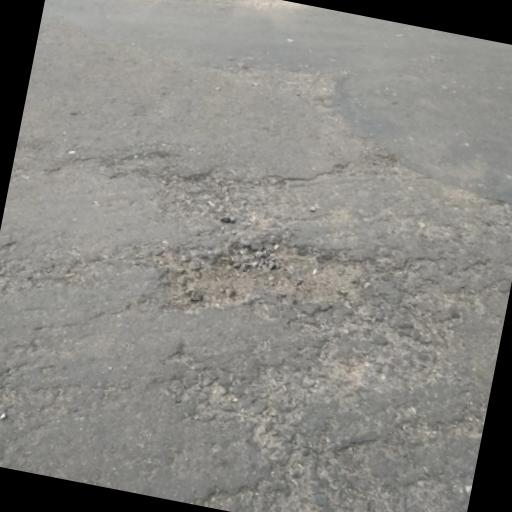pothole: (154, 215, 376, 350), (174, 156, 283, 233)
